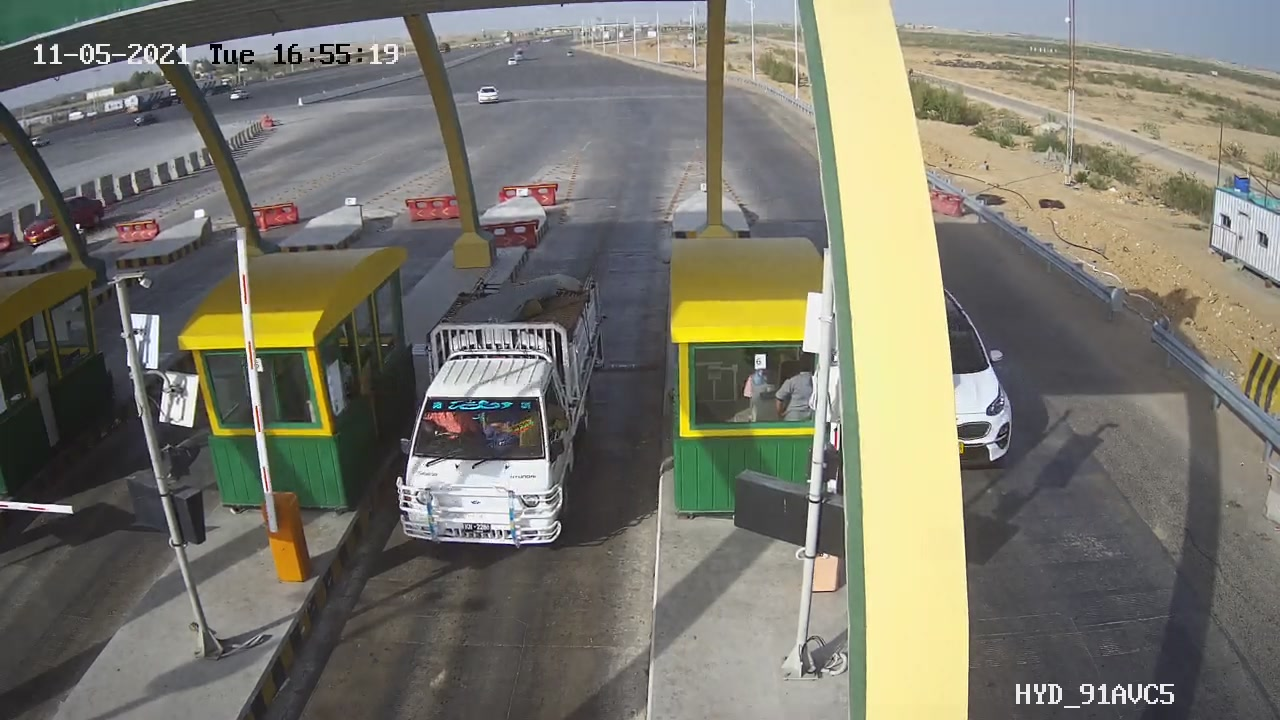F2: (378, 260, 624, 567)
